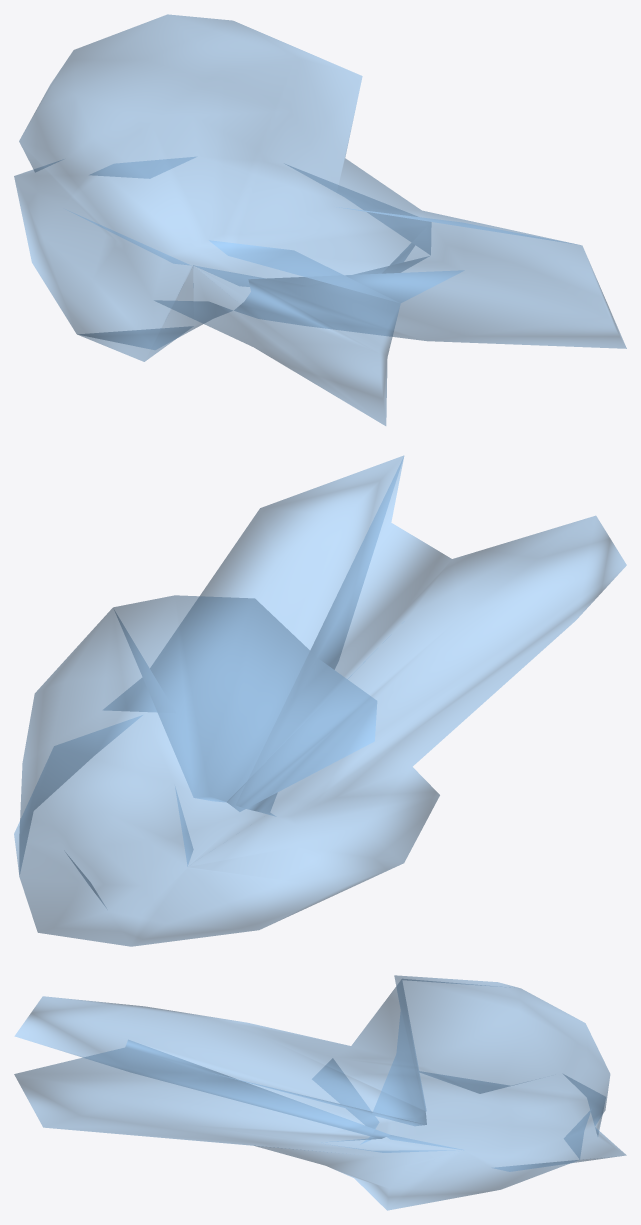
Rendered from ssatlas_shield.gltf.
3 renders of one model, top to bottom at view 1: azimuth 30°, elevation 25°; view 2: azimuth 150°, elevation 25°; view 3: azimuth 270°, elevation 25°, orthographic. The views are drawn at different scales.
Parts seen in each view (by area): view 1: ssatlas.shield; view 2: ssatlas.shield; view 3: ssatlas.shield.
Part boxes in pixels (box(x1,y1,x2,y2)): ssatlas.shield: box(14, 14, 626, 425); ssatlas.shield: box(14, 455, 626, 946); ssatlas.shield: box(14, 975, 626, 1210).
Size of the model in its own units: 6.17 by 4.54 by 13.07.
